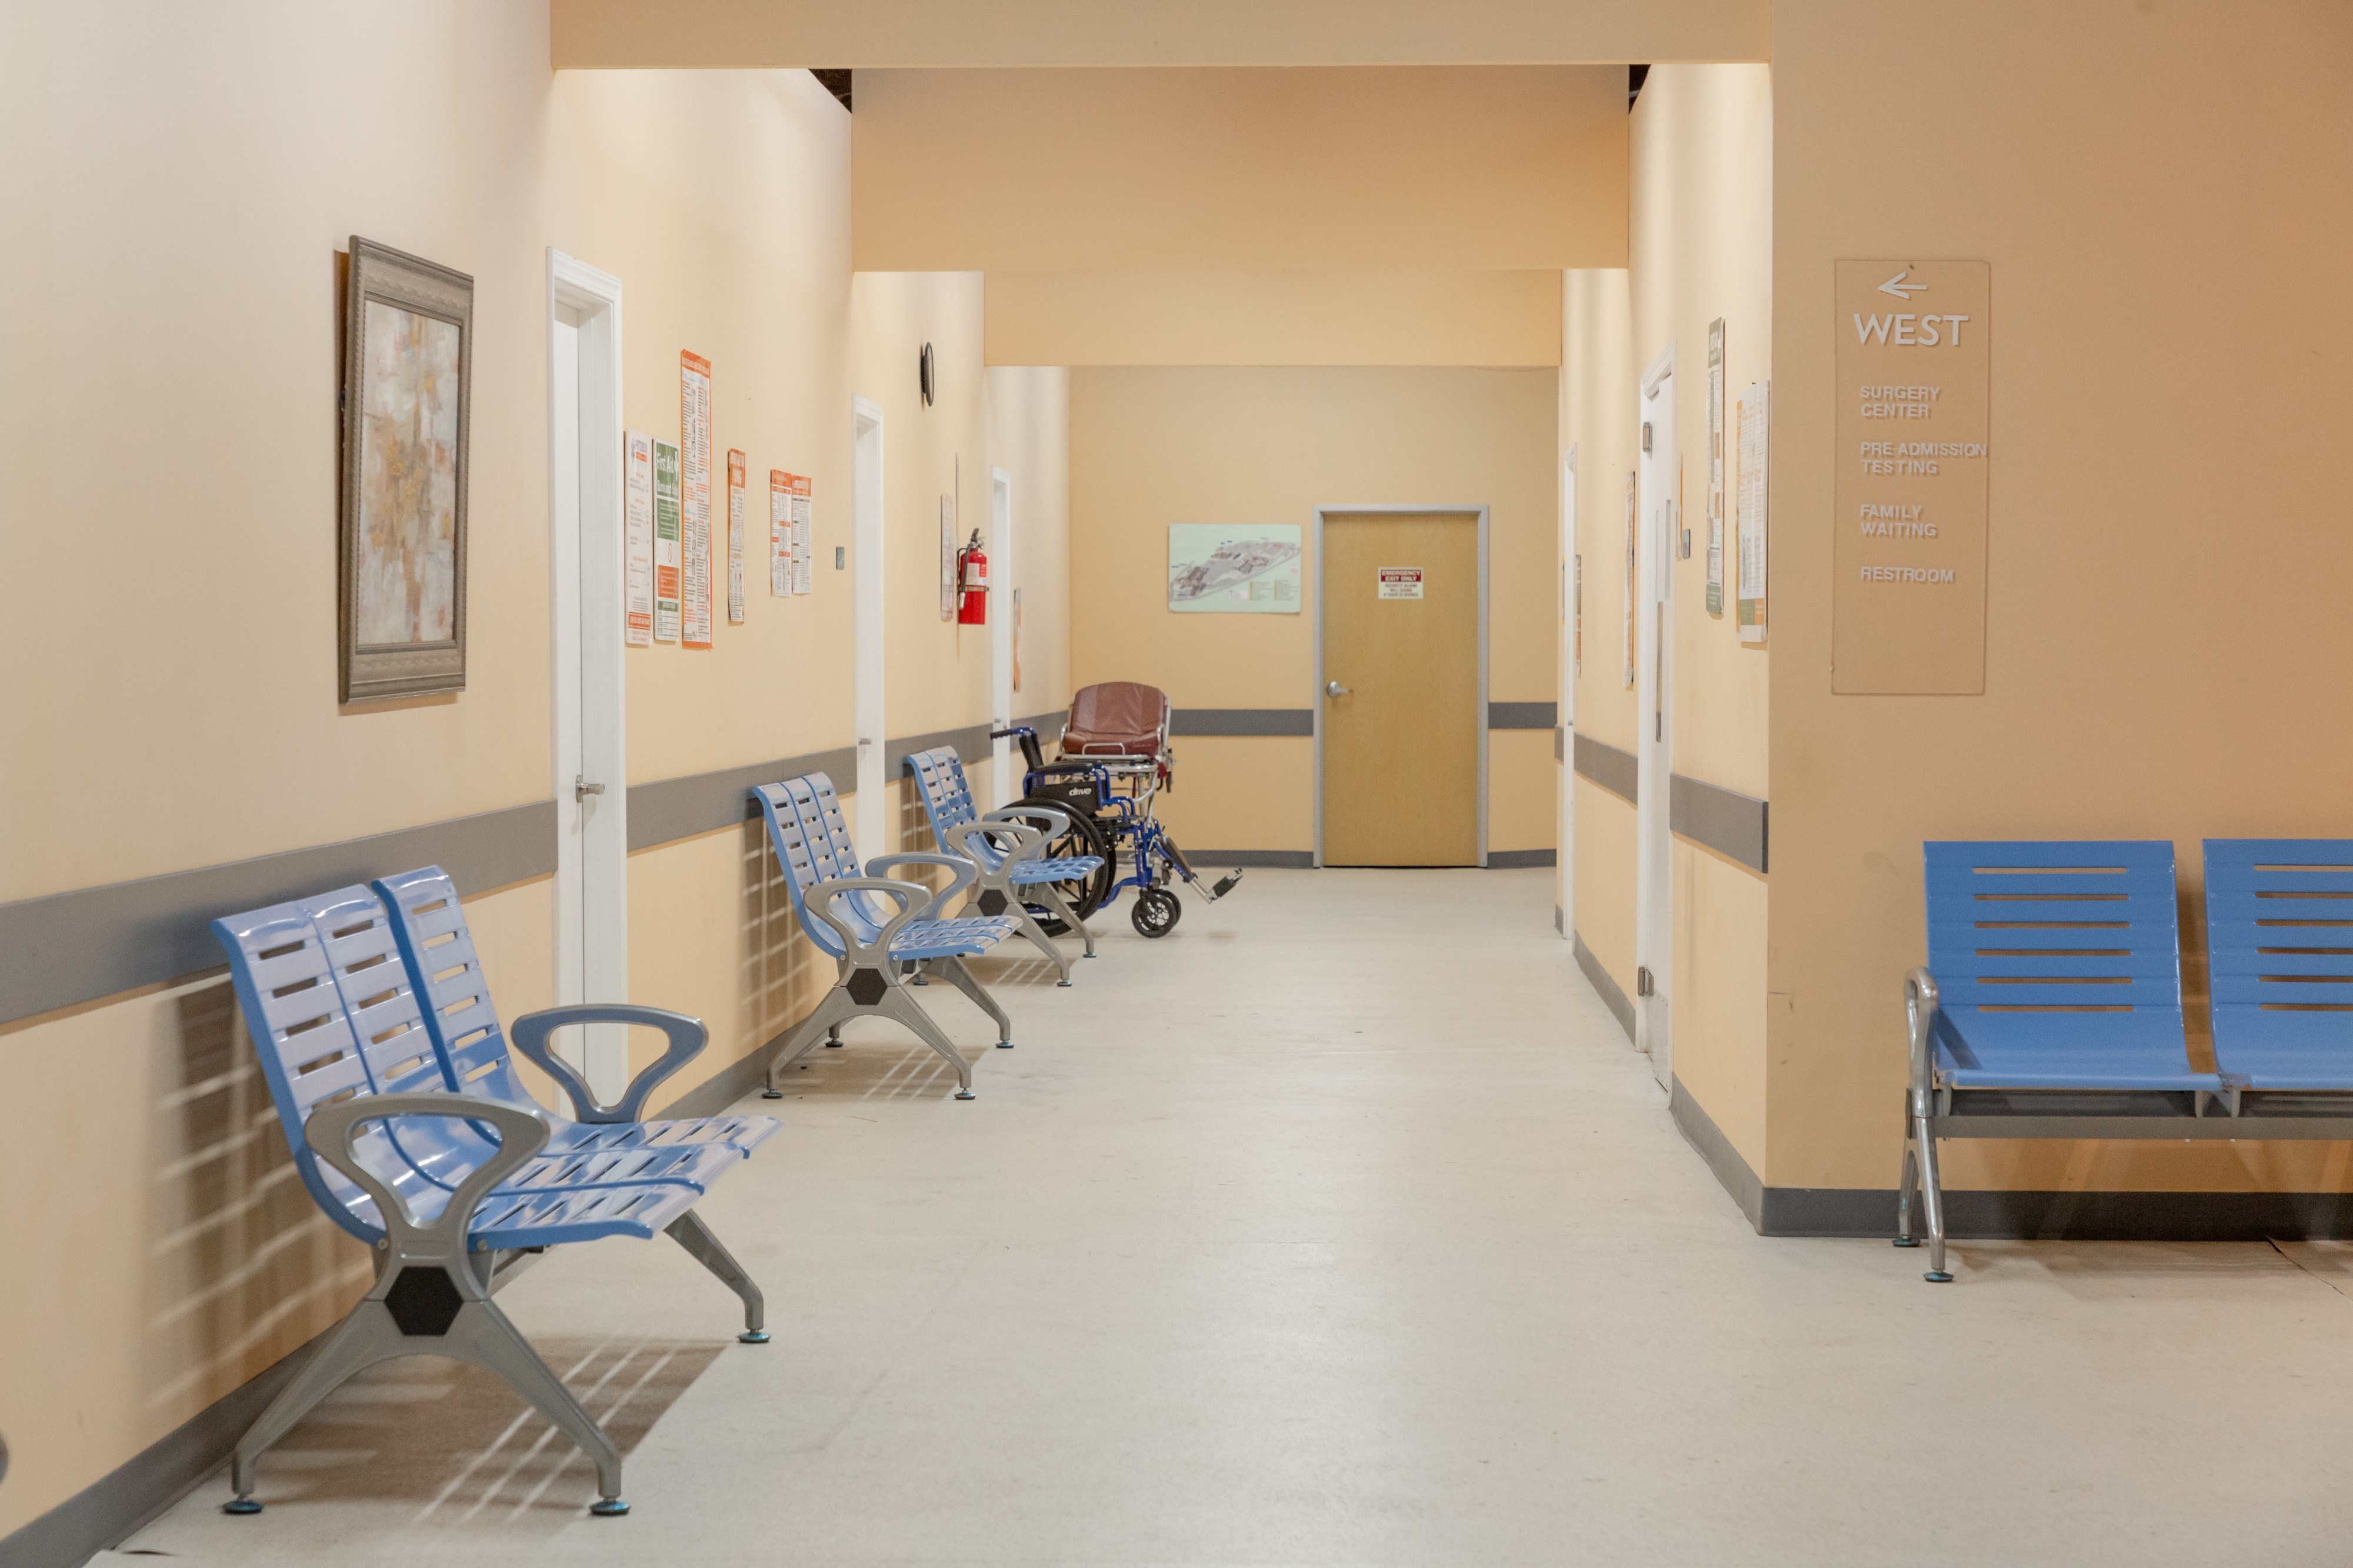chair: (208, 863, 784, 1515), (1898, 835, 2353, 1281), (752, 770, 1023, 1099), (903, 744, 1104, 987)
door_handle: (576, 773, 605, 801), (1328, 679, 1354, 698), (1328, 681, 1352, 698), (859, 735, 871, 747)
wheel_chair: (980, 712, 1246, 936)
